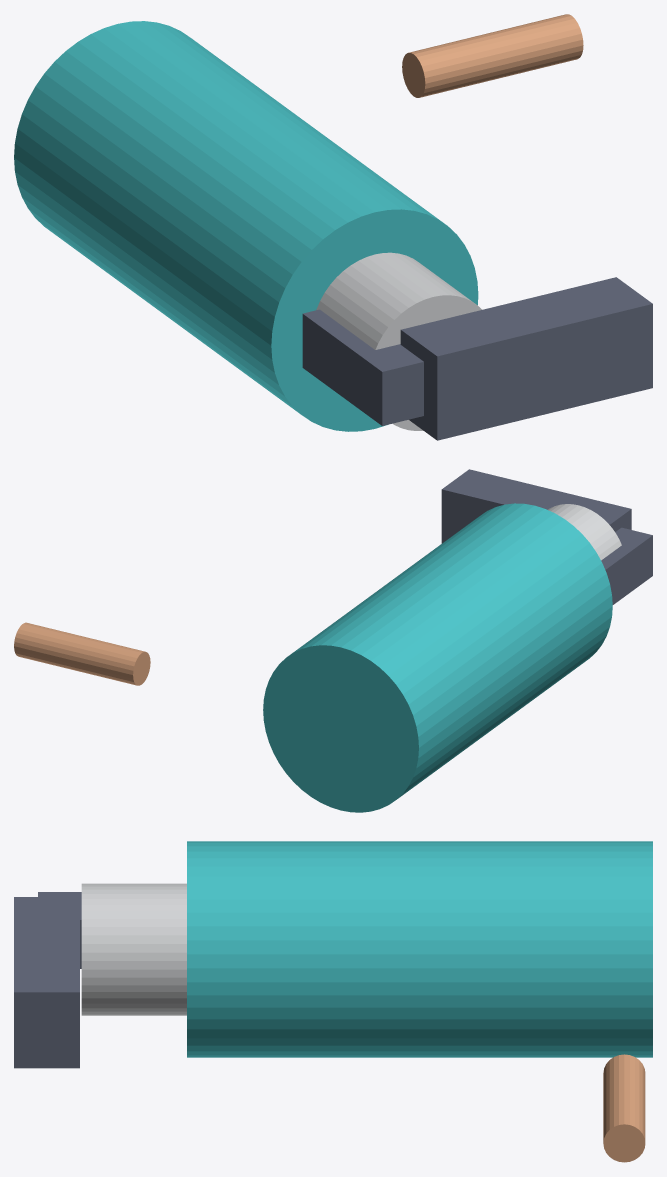
File: spray-bottle-4e006a71.glb
The picture shows the model from 3 angles, top to bottom: view 1: azimuth 30°, elevation 25°; view 2: azimuth 150°, elevation 25°; view 3: azimuth 270°, elevation 25°; orthographic projection. The views are drawn at different scales.
Parts seen in each view (by area): view 1: world; view 2: world; view 3: world.
Part boxes in pixels (x1,y1,x2,y2): world: (14,14,652,440); world: (14,469,652,812); world: (14,841,652,1162).
Bounding box in the file's own units: 1.88 × 0.72 × 2.12.
